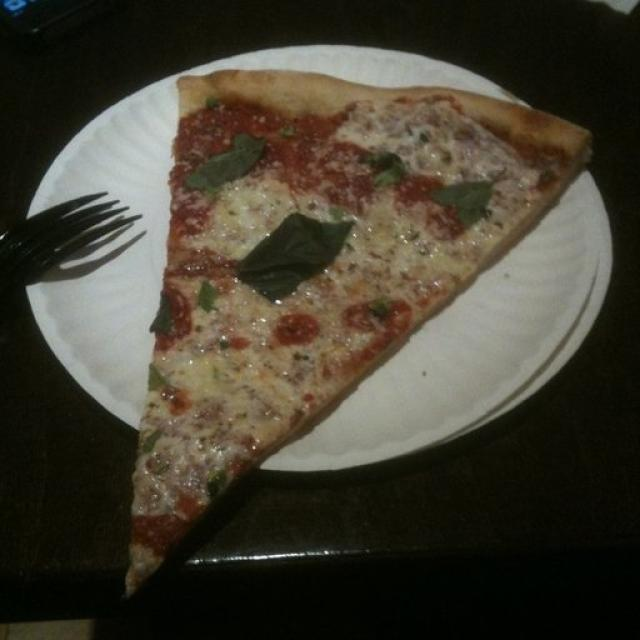Basil: (235, 210, 349, 300), (198, 132, 268, 189), (438, 172, 501, 223), (367, 150, 403, 183), (196, 280, 217, 310)
Pizza: (138, 69, 590, 598)
